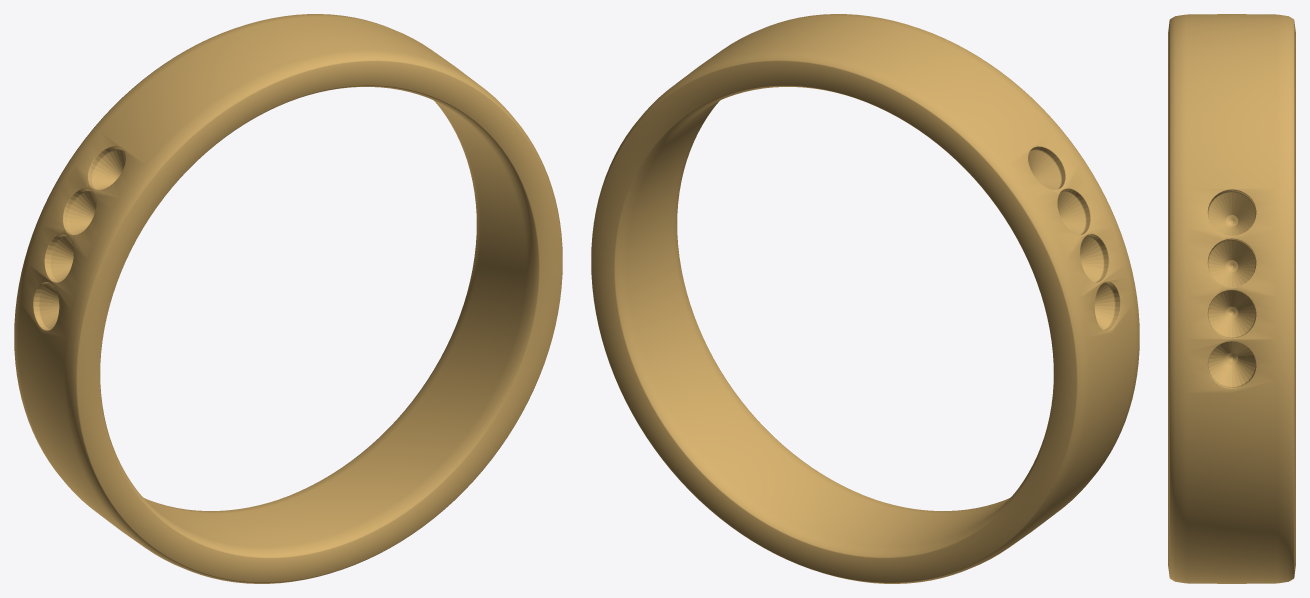
Rendered from wide-flush-accents-head.glb.
The picture shows the model from 3 angles, left to right: view 1: azimuth 30°, elevation 25°; view 2: azimuth 150°, elevation 25°; view 3: azimuth 270°, elevation 25°; orthographic projection.
Parts seen in each view (by area): view 1: Band; view 2: Band; view 3: Band.
Boxes of the visible parts, x1=… form: Band: x1=14, y1=14, x2=562, y2=583; Band: x1=591, y1=14, x2=1139, y2=583; Band: x1=1168, y1=14, x2=1295, y2=583.
Size of the model in its own units: 19.6 by 19.6 by 4.4.
